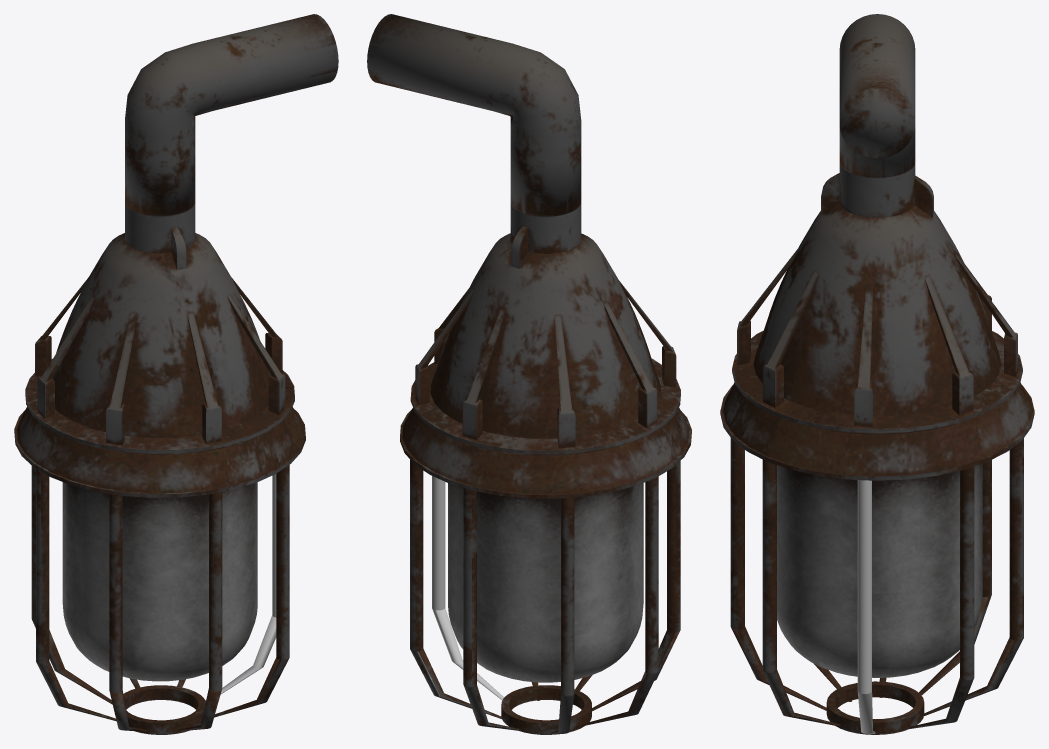
File: lampa1_final.glb
The picture shows the model from 3 angles, left to right: view 1: azimuth 30°, elevation 25°; view 2: azimuth 150°, elevation 25°; view 3: azimuth 270°, elevation 25°; orthographic projection. The views are drawn at different scales.
Parts seen in each view (by area): view 1: Cylinder.014; view 2: Cylinder.014; view 3: Cylinder.014.
Part boxes in pixels (left/top/right/bottom): Cylinder.014: left=14, top=14, right=338, bottom=734; Cylinder.014: left=367, top=14, right=691, bottom=734; Cylinder.014: left=720, top=14, right=1034, bottom=734.
Size of the model in its own units: 2.47 by 5.43 by 2.18.
1 material, 1 textured.
